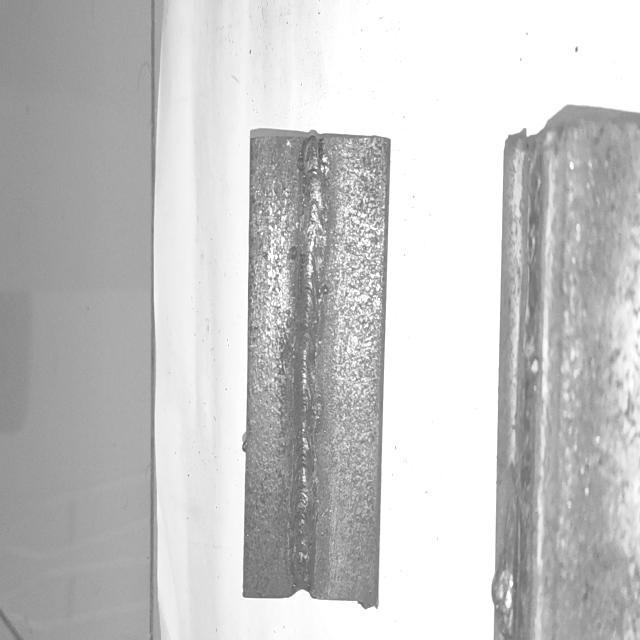Welding Line: (293, 140, 327, 583)
Workpiece: (489, 99, 639, 640), (242, 125, 392, 618)
